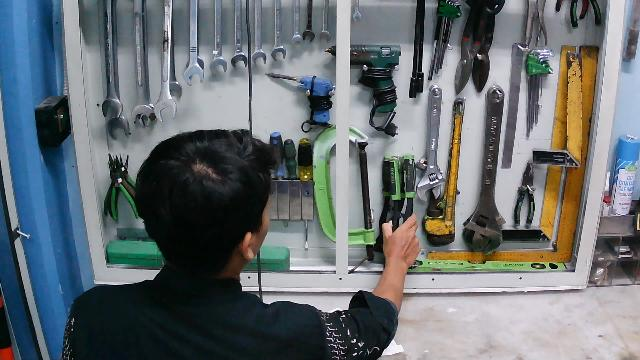tang_rivet: (381, 152, 416, 240)
